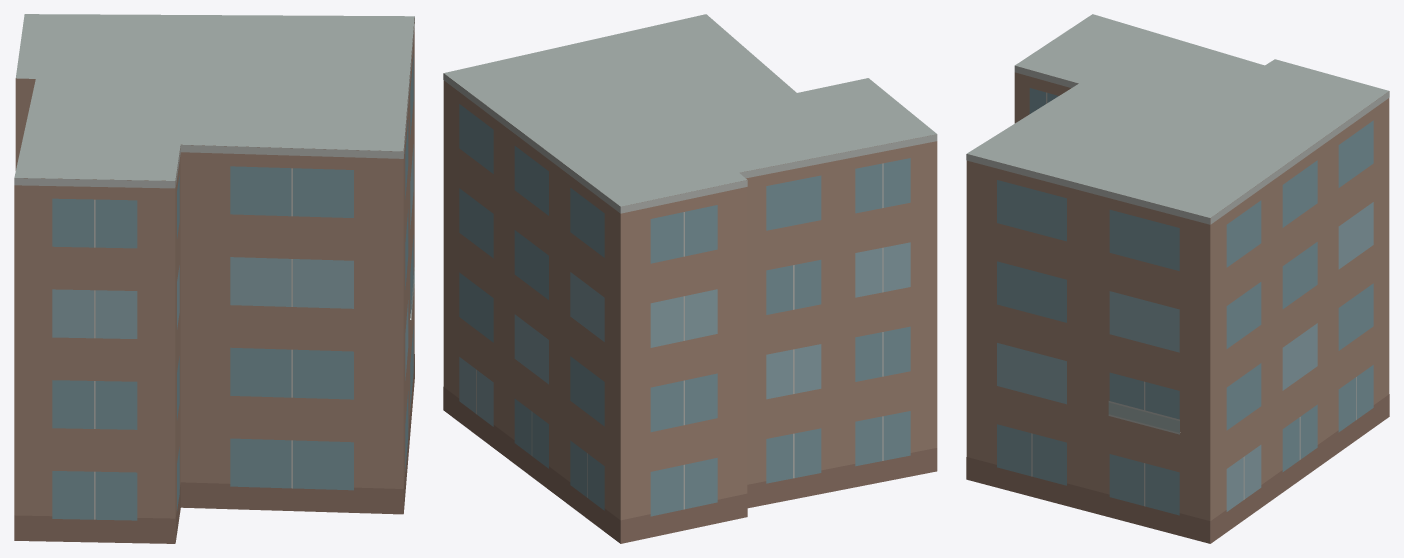
The model's file is survey-upis-32902269.glb.
The picture shows the model from 3 angles, left to right: view 1: azimuth 30°, elevation 25°; view 2: azimuth 150°, elevation 25°; view 3: azimuth 270°, elevation 25°; orthographic projection. The views are drawn at different scales.
Parts seen in each view (by area): view 1: survey-upis-32902269.tmp; view 2: survey-upis-32902269.tmp; view 3: survey-upis-32902269.tmp.
Part boxes in pixels (x1,y1,x2,y2): survey-upis-32902269.tmp: (14, 14, 414, 543); survey-upis-32902269.tmp: (443, 14, 937, 543); survey-upis-32902269.tmp: (966, 14, 1389, 543).
Bounding box in the file's own units: 15.89 × 11.82 × 13.92.
